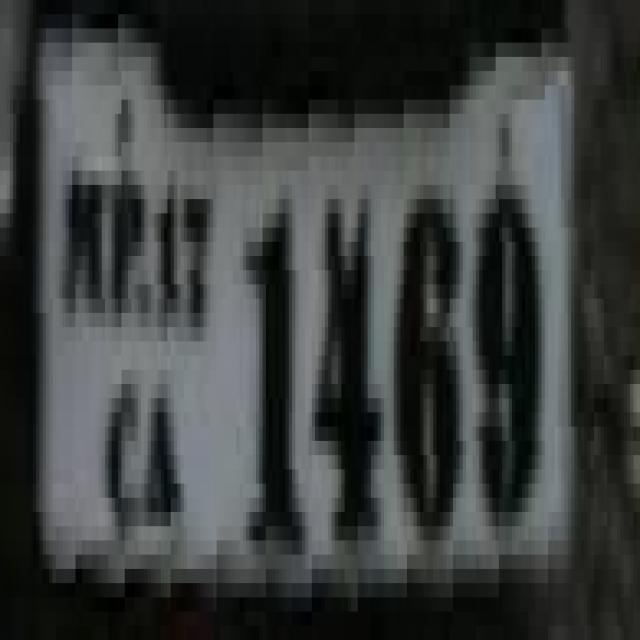license_plate: (23, 14, 587, 640)
